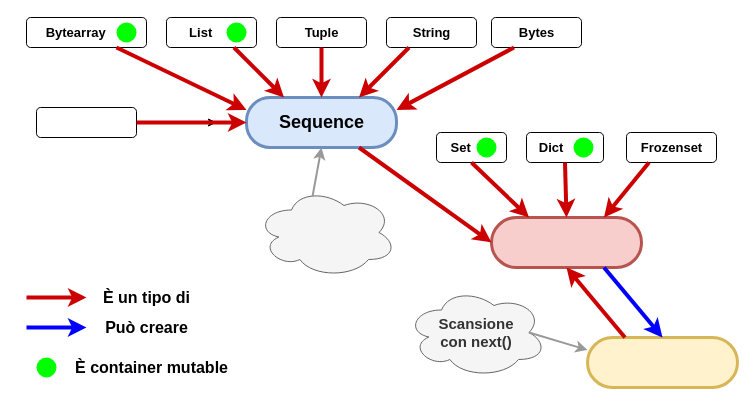
The diagram is 756 pixels wide and 406 high, and some of its shapes have lost their labels. Each missing label, with the centre of its shape:
"Dotato di Indici" goes at pixel 326 232.
"Iterable" goes at pixel 566 242.
"Iterator" goes at pixel 662 362.
"Range Object" goes at pixel 86 122.
